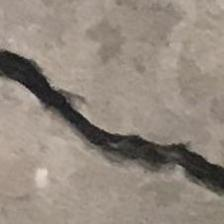Crack: (0, 44, 224, 203)
